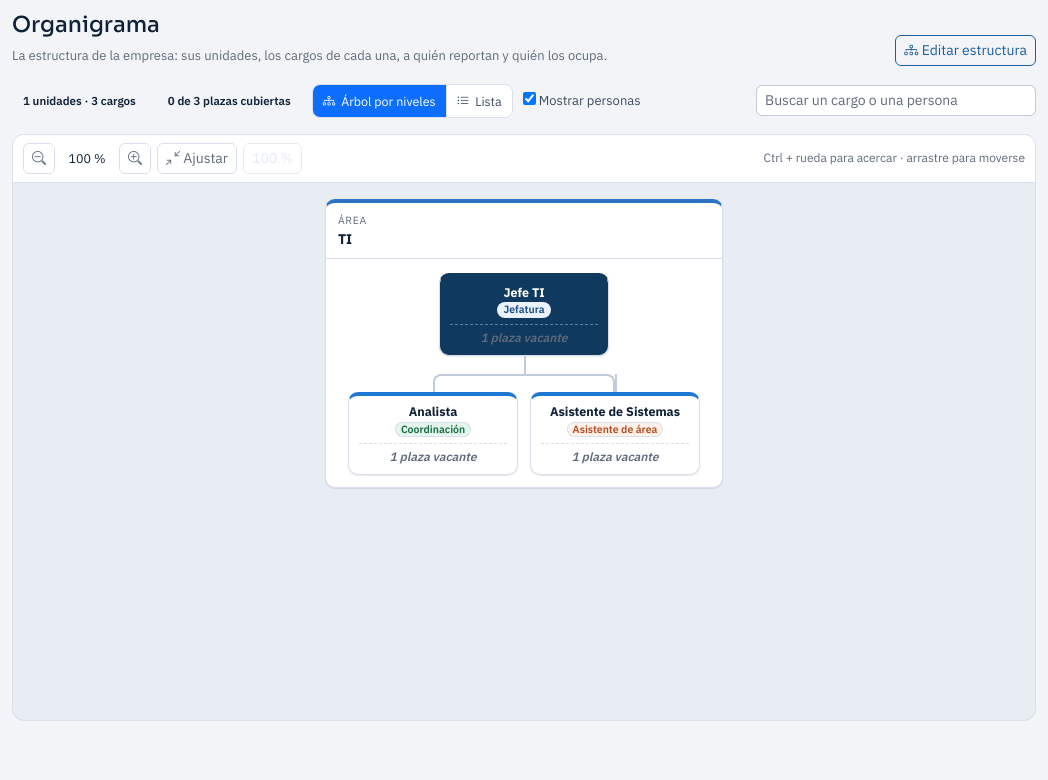
it: El organigrama solo muestra lo vigente › si el jefe quedó inactivo, el cargo cuelga del primer jefe vigente
This screenshot has width=1048, height=780.
Expected: the element "TI" is shown, x1=325 y1=199 x2=723 y2=488
Click the radio button labelled "Lista": (479, 101) x1=446 y1=85 x2=512 y2=117
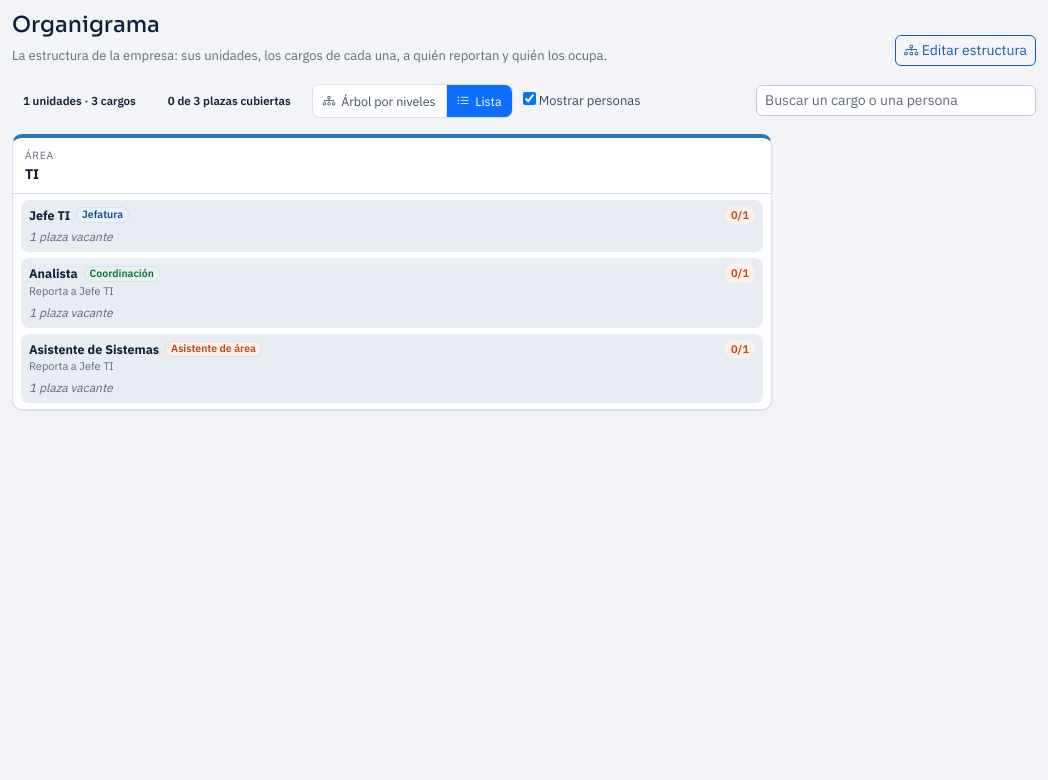
Expected: the text "Reporta a Jefe TI" below "Analista" is shown, x1=29 y1=284 x2=114 y2=298
